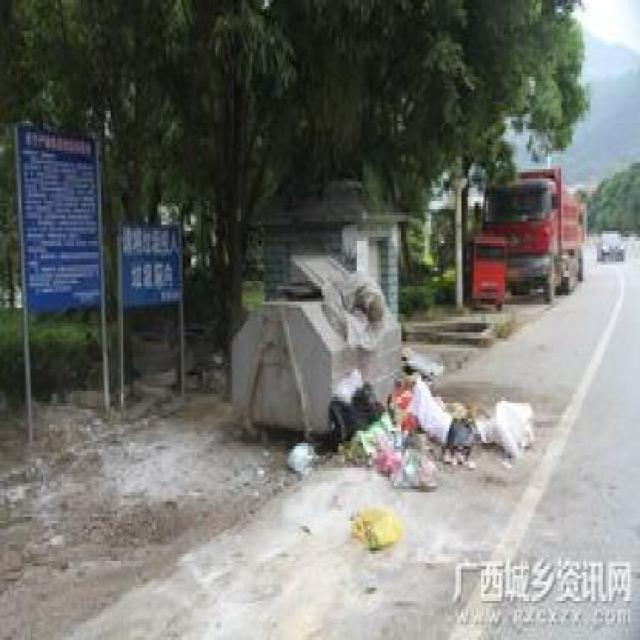garbage: (336, 379, 545, 490), (337, 508, 414, 551), (274, 437, 323, 486)
